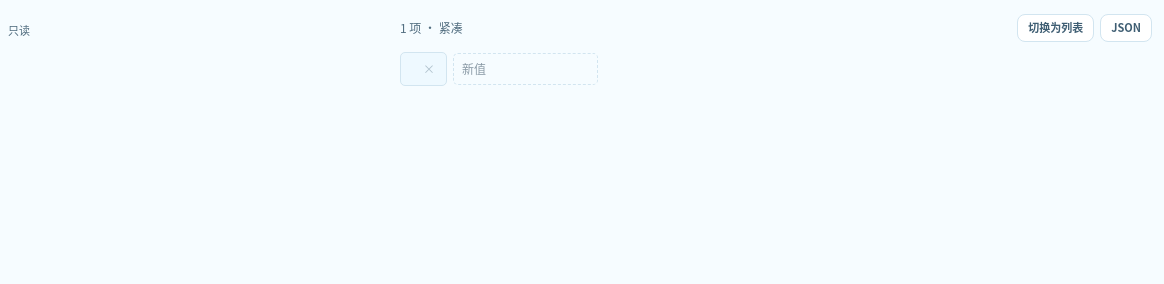
Test: 字段写入权限 › readonly 字符串数组锁定增删控件，仍能切换查看视图
Expected: the button named "删除 alpha" is disabled, [416,56,442,82]
Expected: the field named "添加一项" is disabled, [462,56,562,82]
Click the button "切换为列表" at (1056, 28), box [1017,14,1094,42]
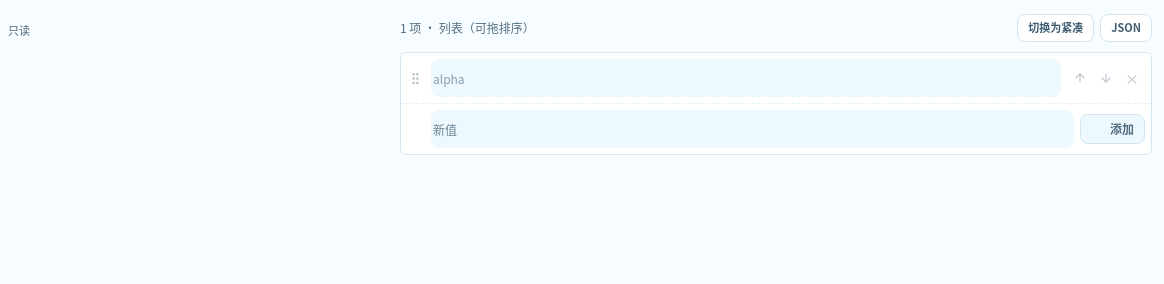
Expected: the button named "删除第 1 项" is disabled, [1119,65,1145,91]
Result: the field named "第 1 项" is disabled at [431,59,1061,97]
Click the button "JSON" at (1126, 28), box [1100,14,1152,42]
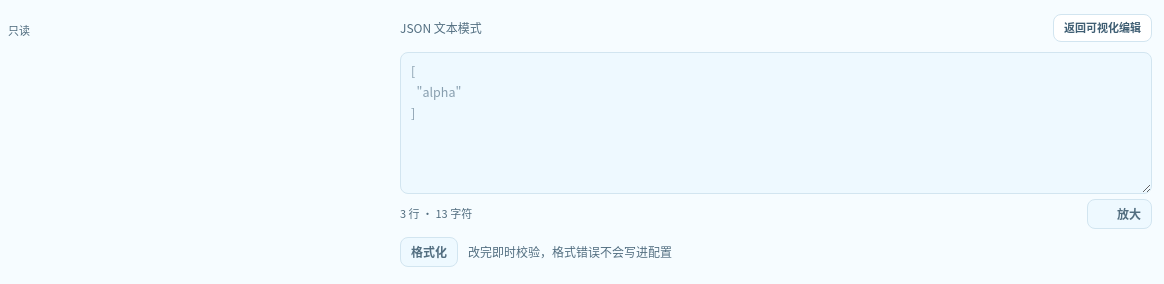
Result: the button "格式化" is disabled at [400,237,458,267]
Result: the text box named "setting" is disabled at [400,52,1152,194]
